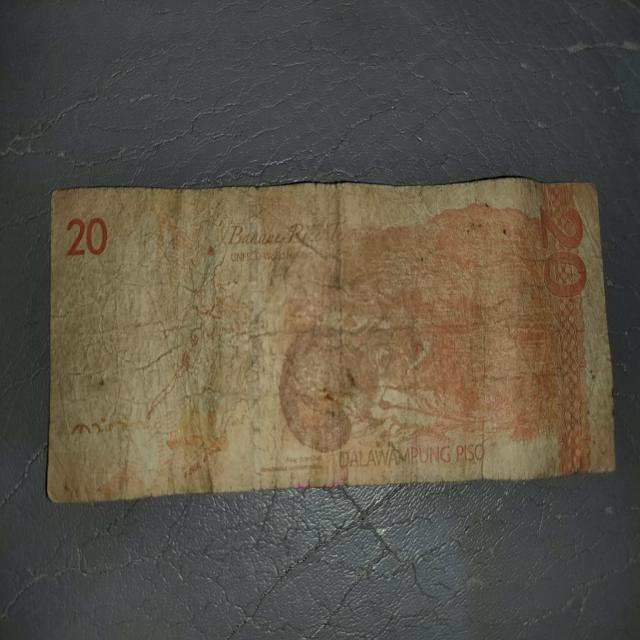notbroken: (47, 179, 620, 504)
